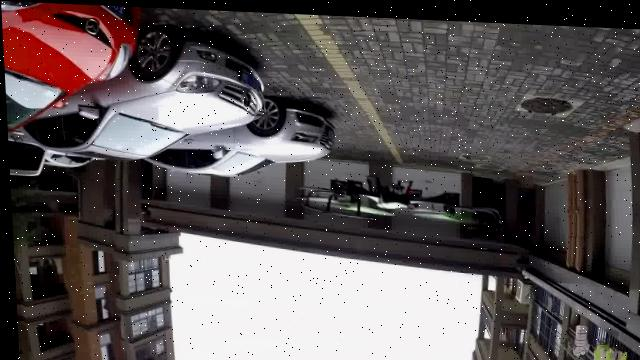drone: (299, 165, 500, 229)
